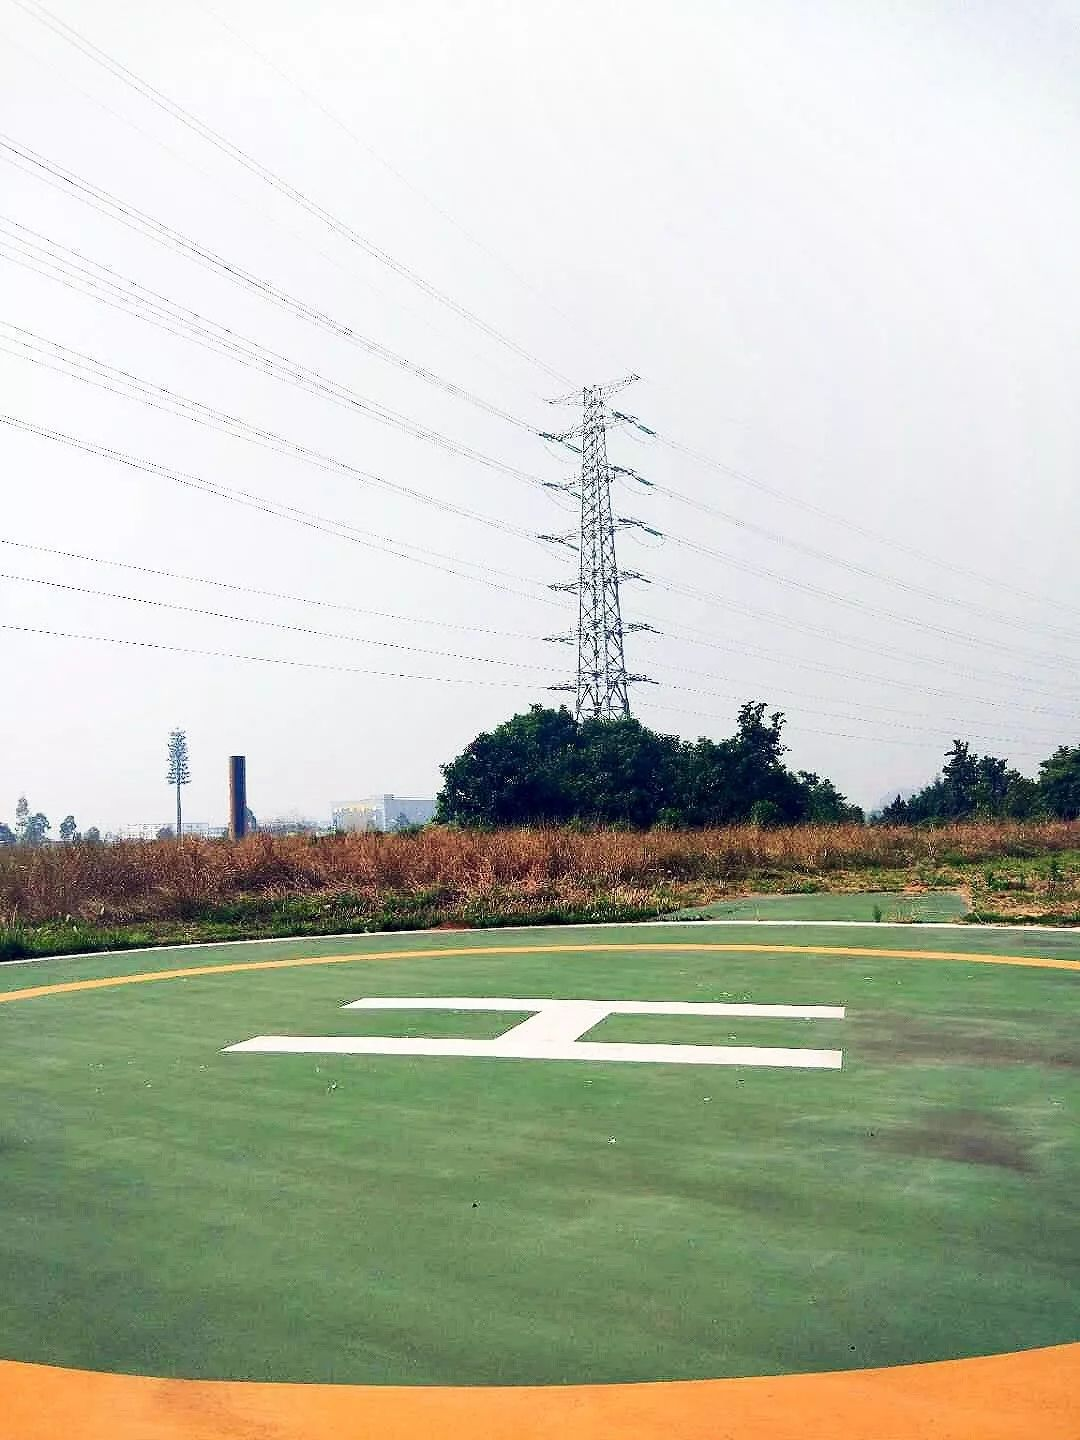H: (217, 996, 849, 1075)
